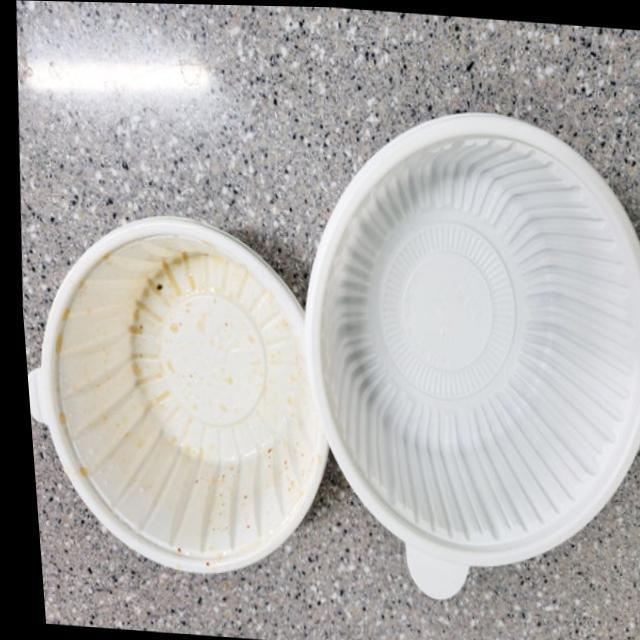disposable: (266, 88, 640, 612), (18, 198, 332, 598)
